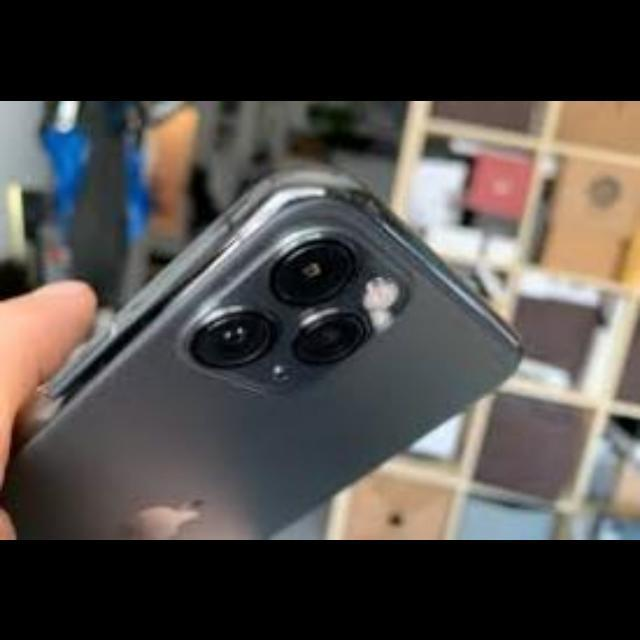PhoneUse: (10, 164, 526, 538)
